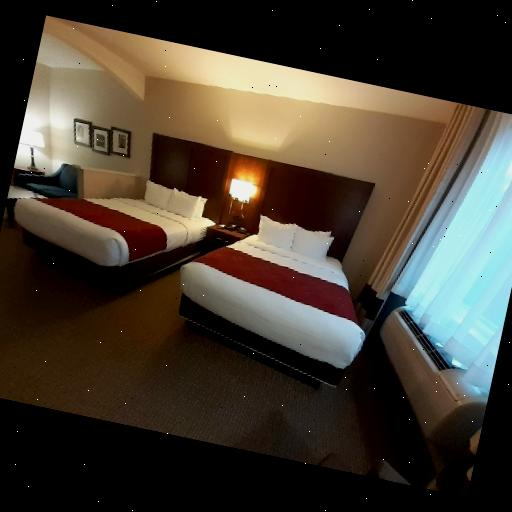clean_bed: (181, 162, 380, 395), (20, 134, 233, 295)
organised_pillow: (253, 210, 347, 266), (142, 178, 212, 221)
